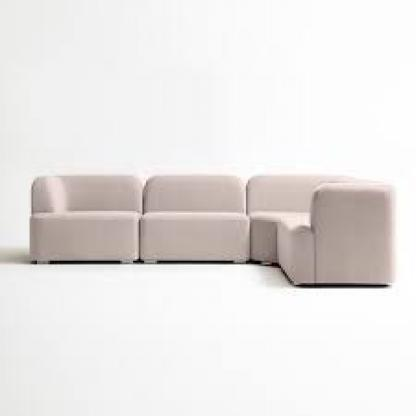sofa: (26, 170, 412, 289)
